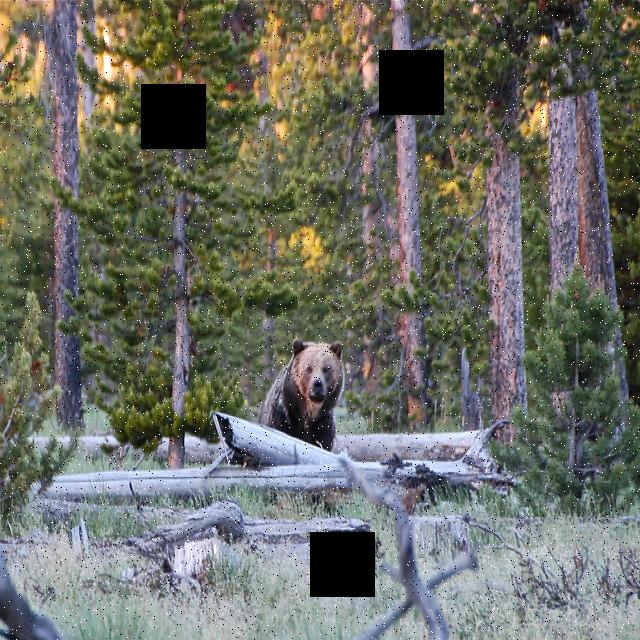Bear: (255, 329, 353, 464)
